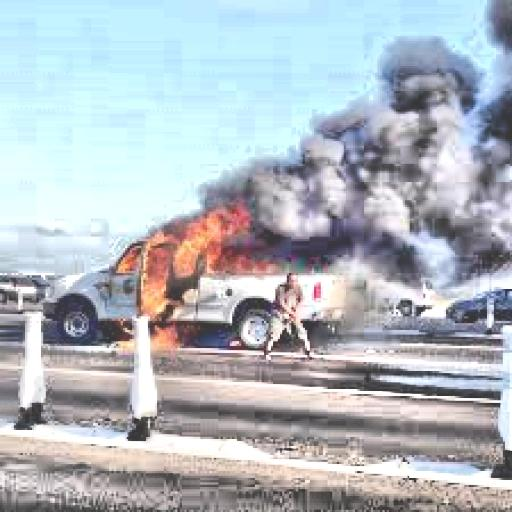fire: (112, 214, 284, 350)
